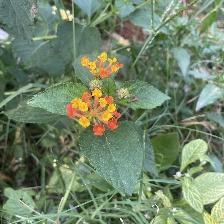common lanthana: (67, 90, 124, 142)
